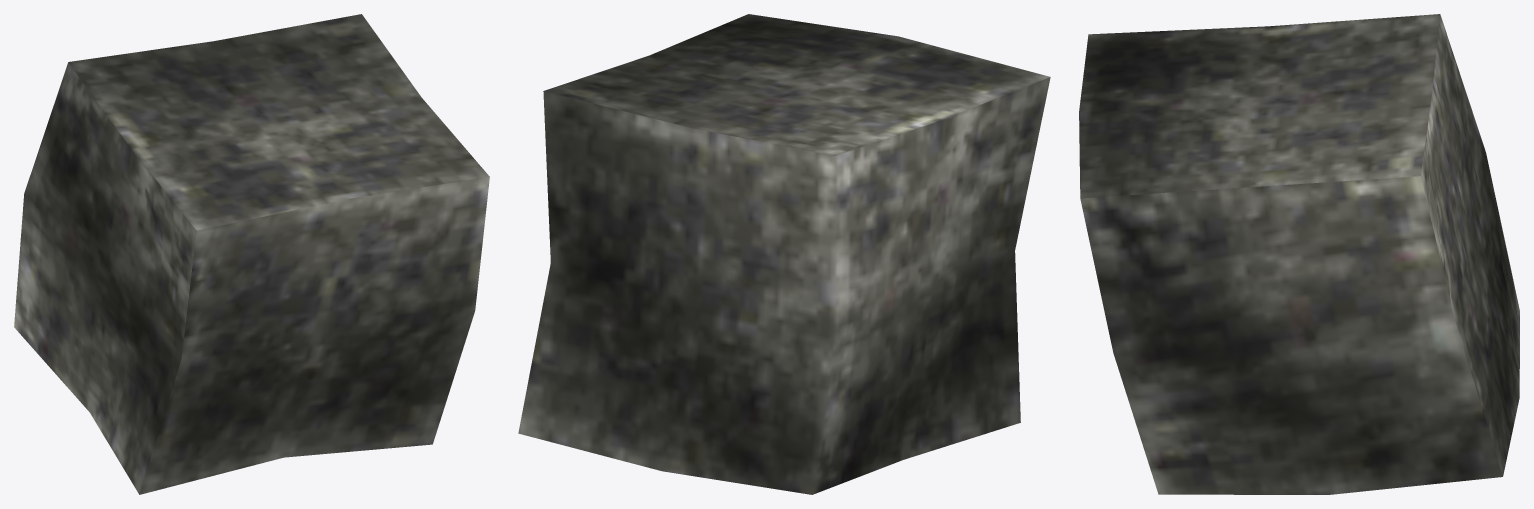
File: Stones_5.fbx
The picture shows the model from 3 angles, left to right: view 1: azimuth 30°, elevation 25°; view 2: azimuth 150°, elevation 25°; view 3: azimuth 270°, elevation 25°; orthographic projection. The views are drawn at different scales.
Visible parts, largest first — view 1: Stones_5; view 2: Stones_5; view 3: Stones_5.
Part boxes in pixels (x1=…): Stones_5: x1=14, y1=14, x2=489, y2=494; Stones_5: x1=518, y1=14, x2=1050, y2=494; Stones_5: x1=1079, y1=14, x2=1519, y2=494.
Size of the model in its own units: 59.16 by 57.32 by 63.4.
